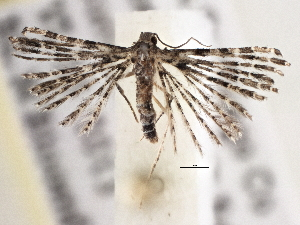Alucitidae: (5, 21, 290, 180)
moth: (3, 19, 288, 178)
